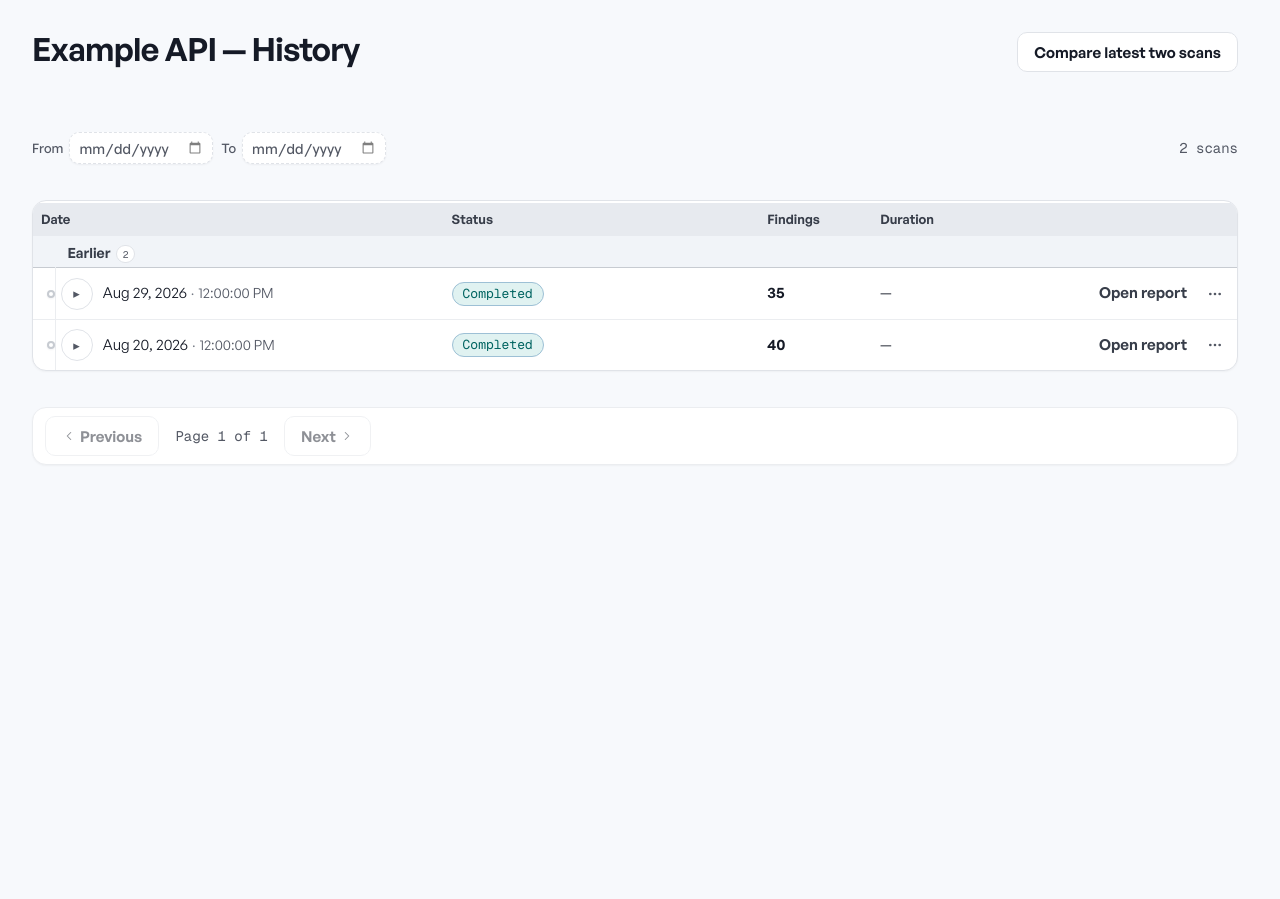
Scenario: HistoryPage › compare workflow › offers a visible "Compare latest two scans" that opens the panel directly, with seconds in the stamps
Step 1. Click the button "Compare latest two scans" → coordinates (1128, 52), box [1017,32,1238,72]
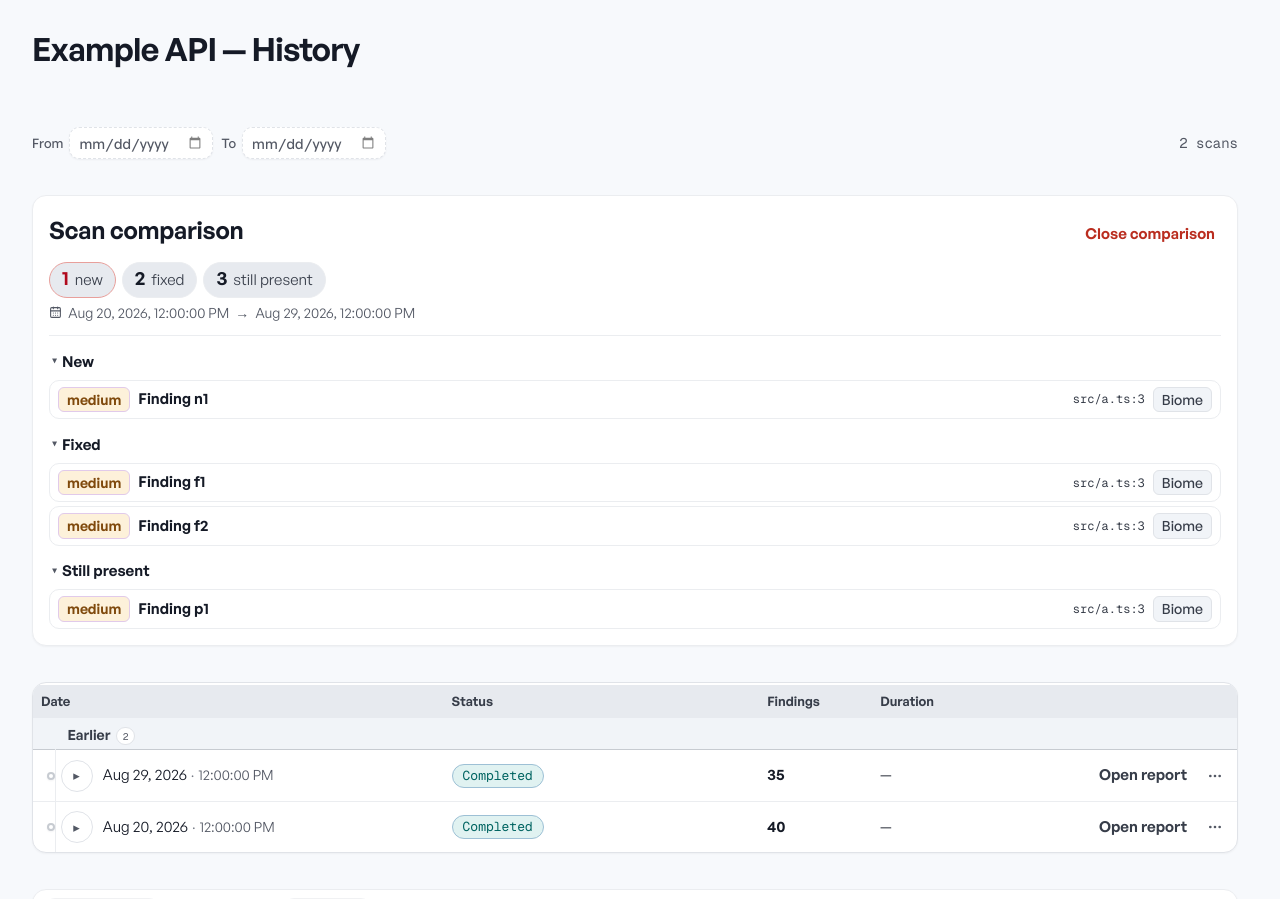
expect the element with class "compare-sub" reads "Aug 20, 2026, 12:00:00 PM → Aug 29, 2026, 12:00:00 PM": met, box [68,304,229,321]
expect the button "Close comparison" is shown: met
Step 2. Click the button "Close comparison" → coordinates (1150, 234), box [1079,217,1221,252]
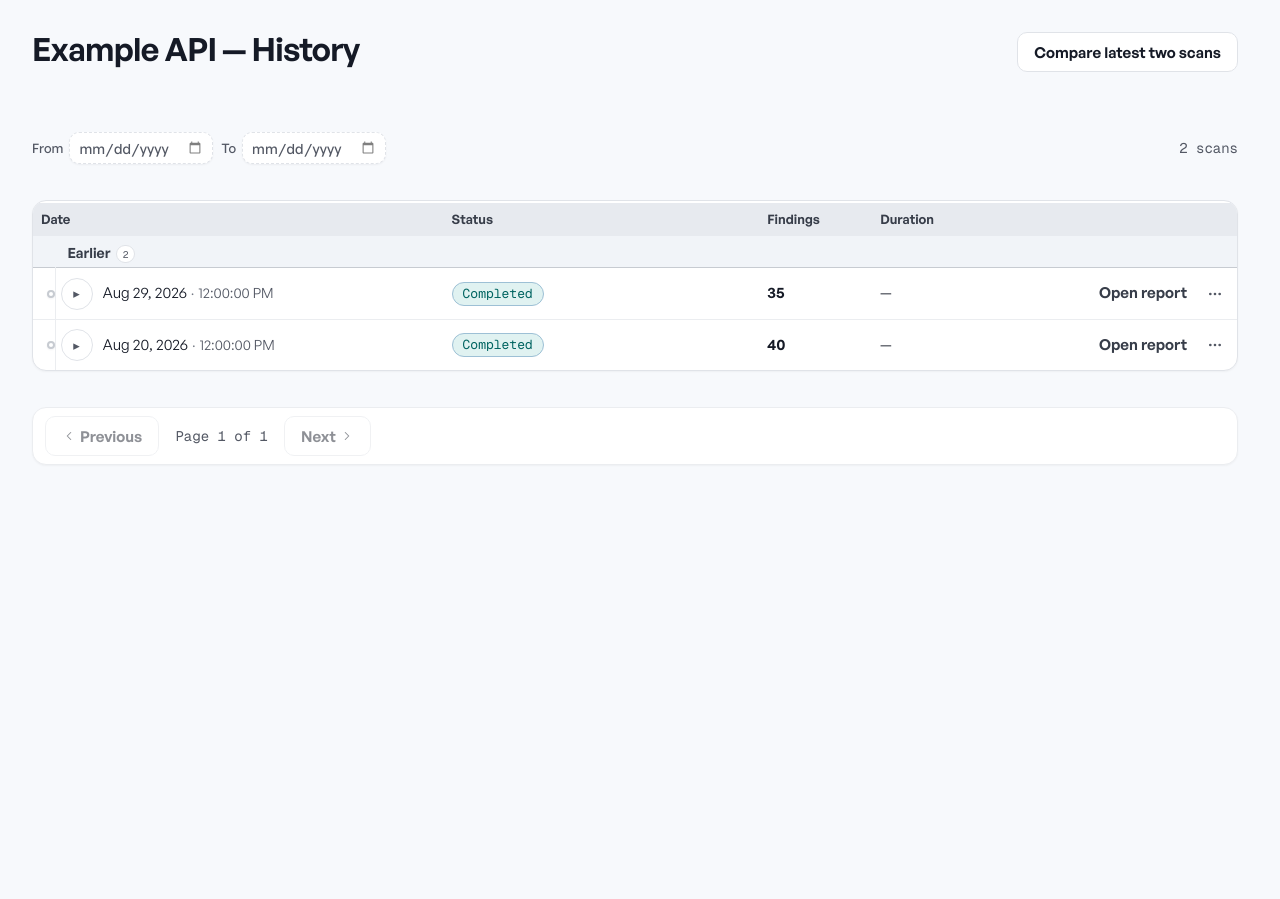
expect the element with class "compare-panel" is gone: met
